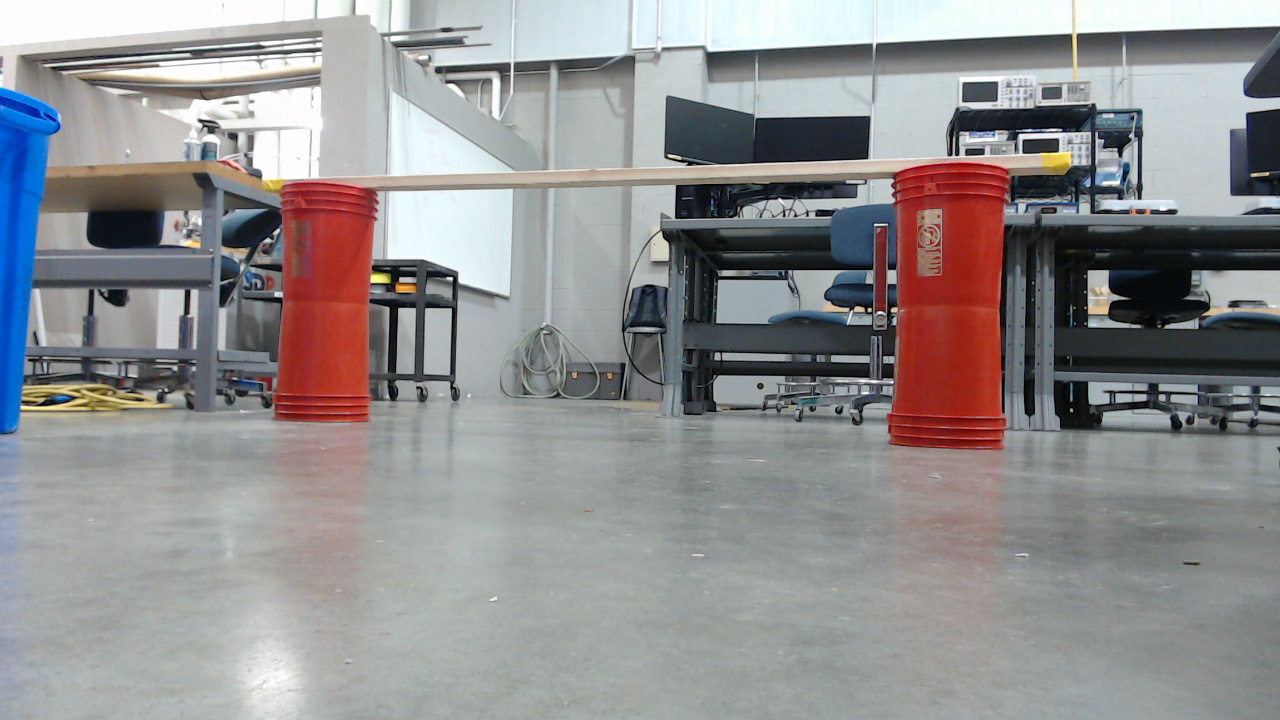red_bucket_arch: (267, 155, 1030, 459)
